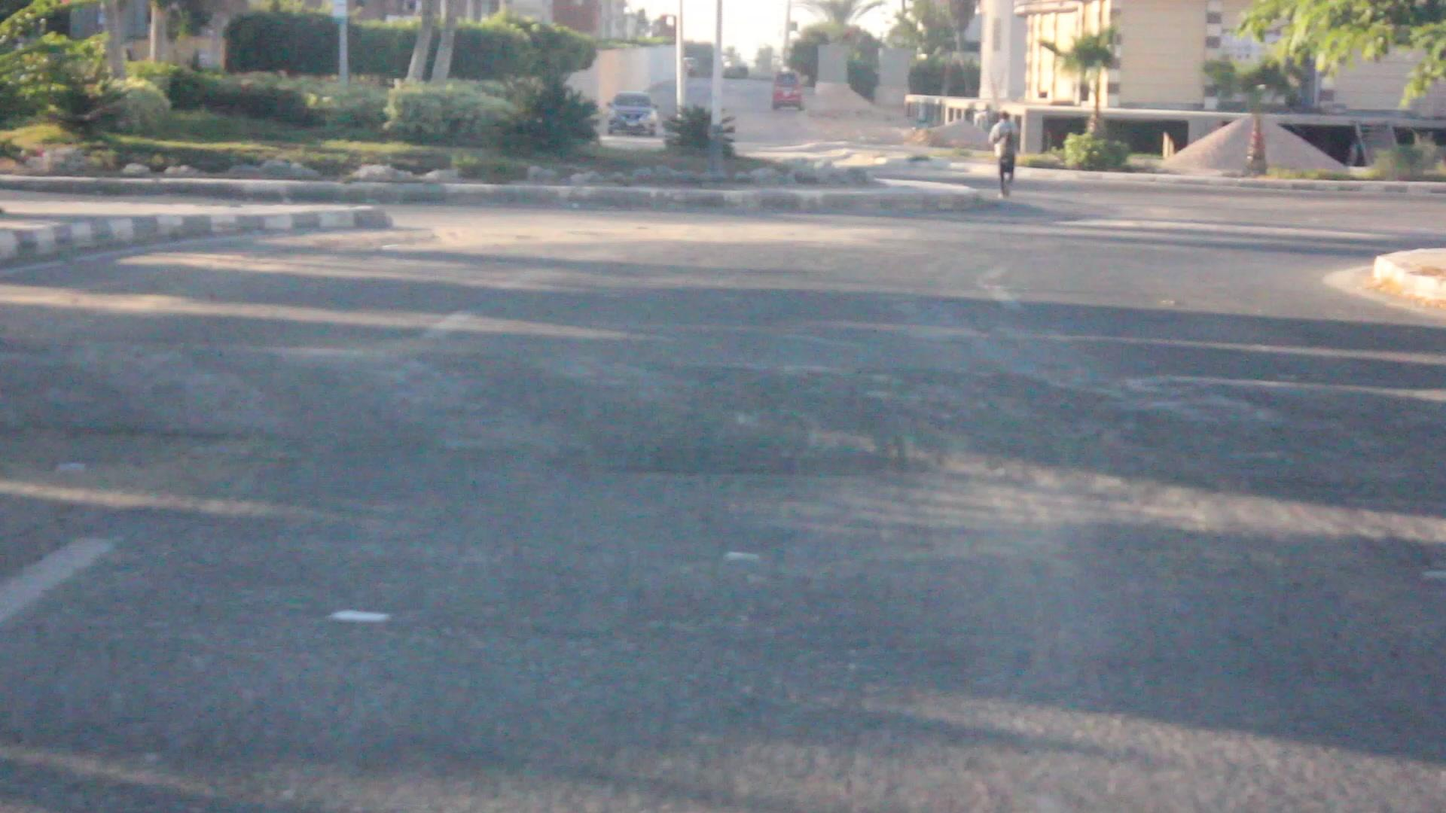Bump: (0, 319, 1445, 497)
